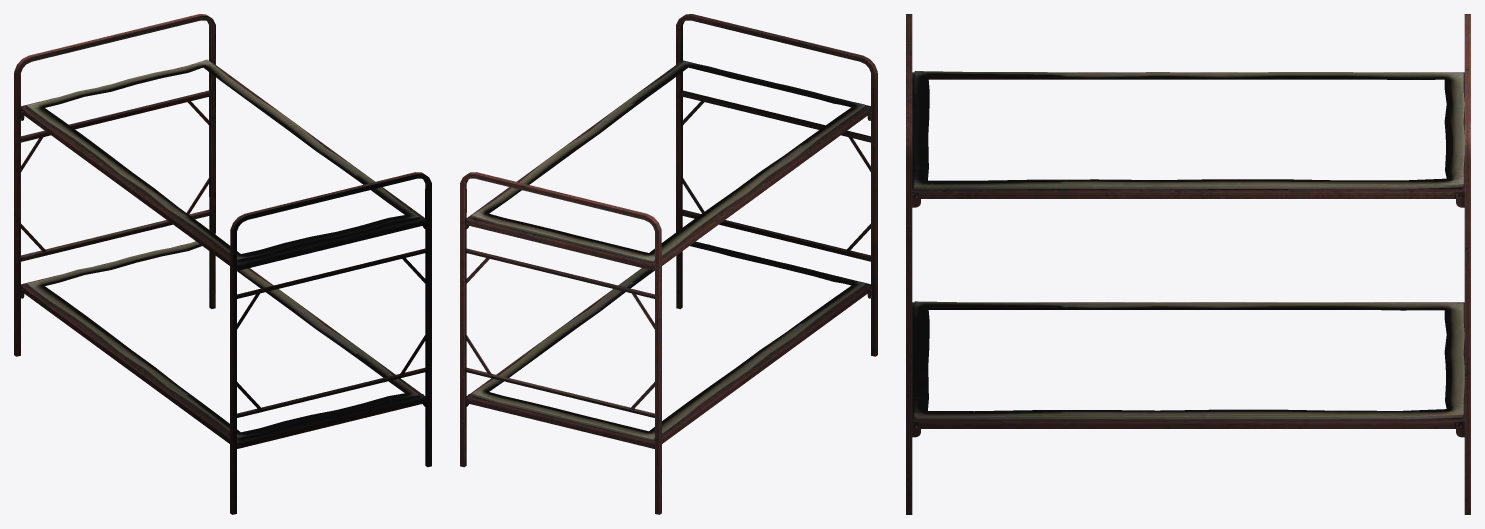
File: bunkbed.glb
3 renders of one model, left to right at view 1: azimuth 30°, elevation 25°; view 2: azimuth 150°, elevation 25°; view 3: azimuth 270°, elevation 25°, orthographic. The views are drawn at different scales.
Parts seen in each view (by area): view 1: 0_bunkbed; view 2: 0_bunkbed; view 3: 0_bunkbed.
Boxes of the visible parts, x1,y1,x2,y2 form: 0_bunkbed: (14, 14, 431, 514); 0_bunkbed: (460, 14, 877, 514); 0_bunkbed: (906, 14, 1470, 514).
Bounding box in the file's own units: 1.29 × 1.83 × 2.45.
1 material, 1 textured.
